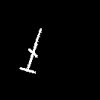double_crochet: (20, 29, 41, 72)
